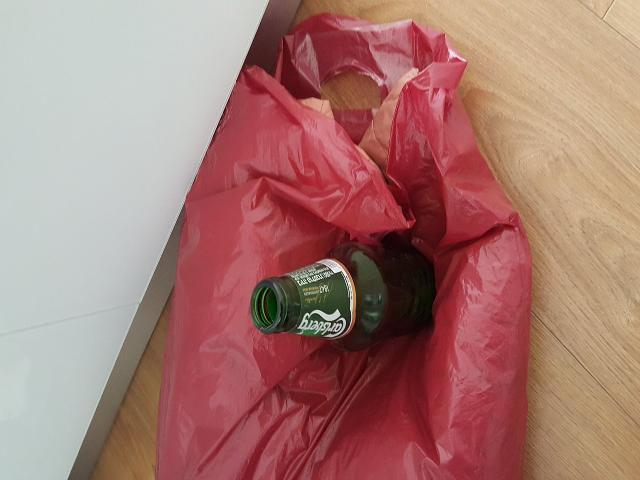beer: (252, 242, 437, 349)
